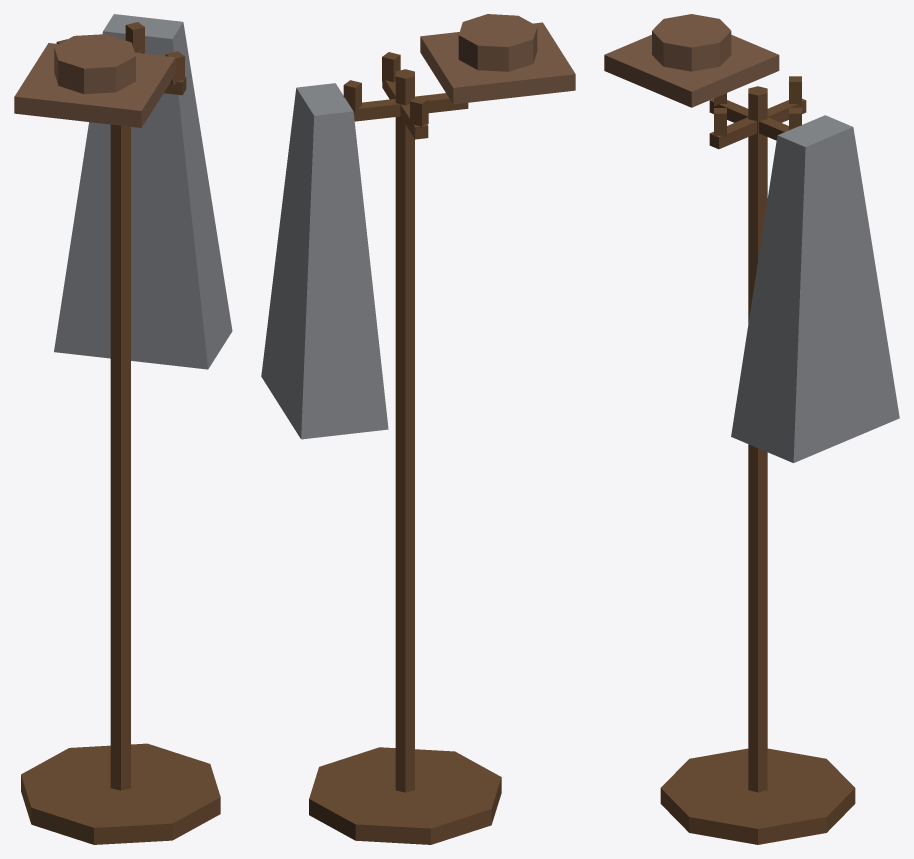
The model's file is GH_CoatRack_01.glb.
3 renders of one model, left to right at view 1: azimuth 30°, elevation 25°; view 2: azimuth 150°, elevation 25°; view 3: azimuth 270°, elevation 25°, orthographic. The views are drawn at different scales.
Parts seen in each view (by area): view 1: GH_CoatRack_01; view 2: GH_CoatRack_01; view 3: GH_CoatRack_01.
Part boxes in pixels (<box>): GH_CoatRack_01: <box>14,14,232,844</box>; GH_CoatRack_01: <box>261,14,575,844</box>; GH_CoatRack_01: <box>604,14,899,844</box>.
Bounding box in the file's own units: 0.6689 × 1.86 × 0.6689.
Materials: 1 (1 with a texture image).
